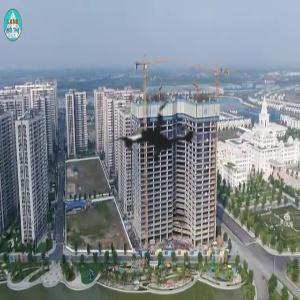drone: (82, 63, 227, 208)
